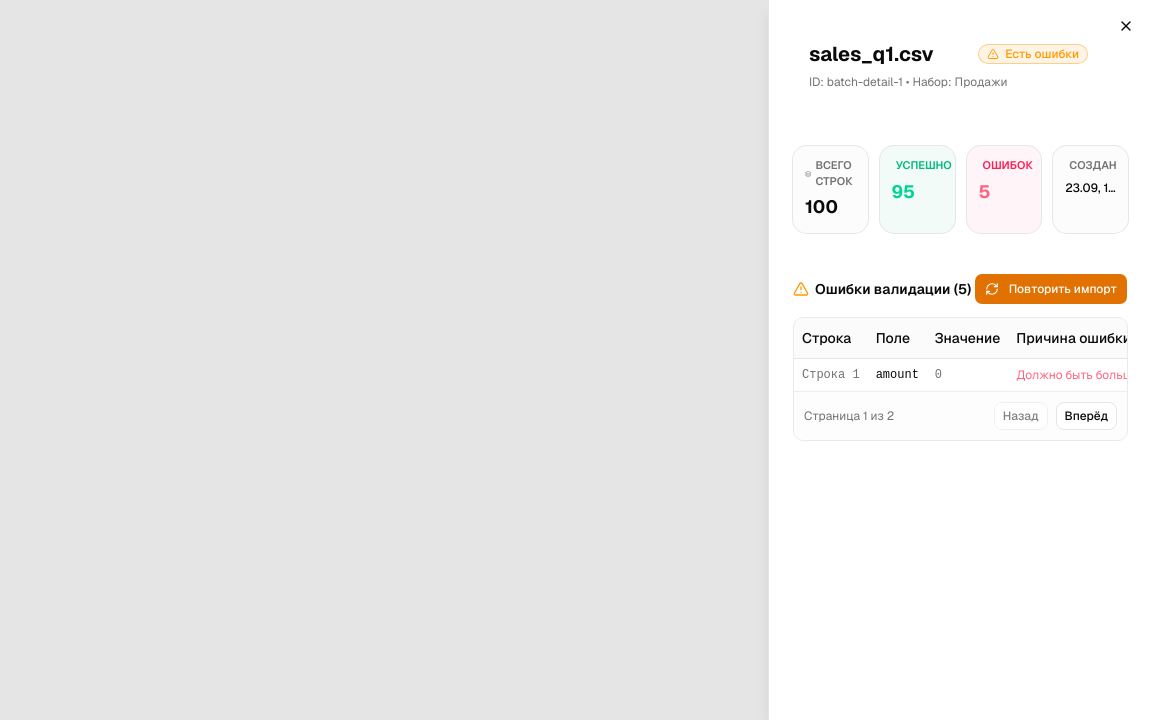
Test: ImportBatchDetailSheet › handles pagination next button click to load next page
Expected: the text "Страница 1 из 2" is shown, [804,408,894,424]
Click the button "Вперёд" at (1086, 416), box [1056,402,1117,430]
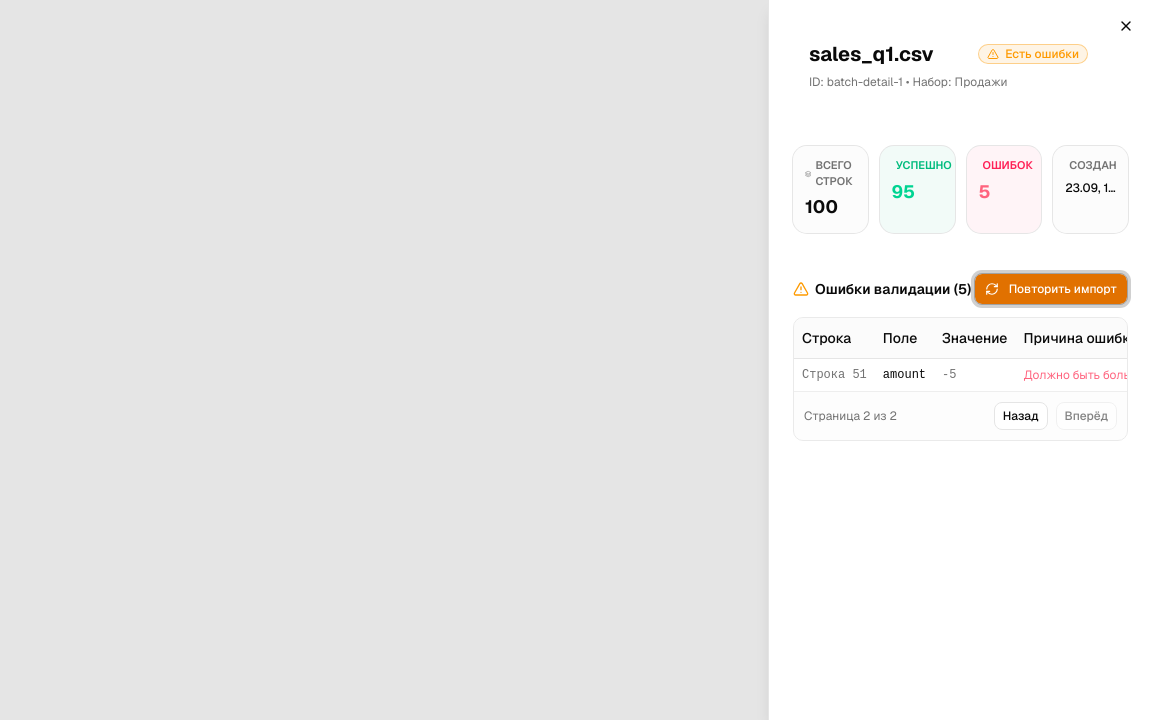
Now the text "Страница 2 из 2" is shown, box [804,408,897,424]
